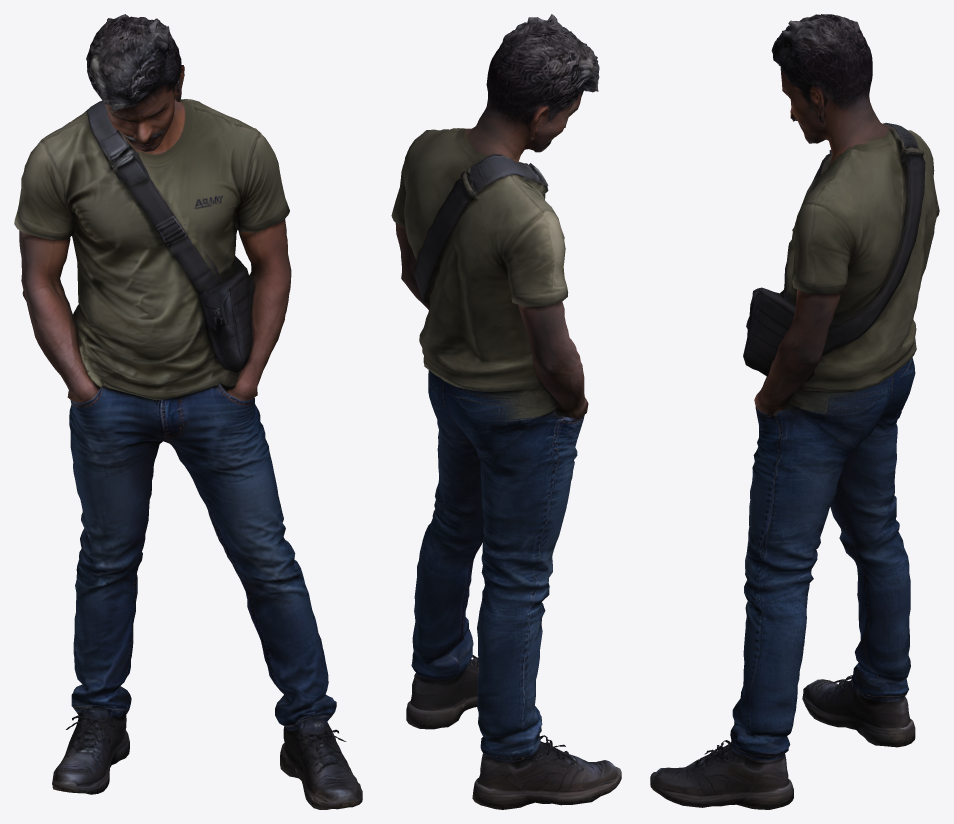
File: about_casual.glb
3 renders of one model, left to right at view 1: azimuth 30°, elevation 25°; view 2: azimuth 150°, elevation 25°; view 3: azimuth 270°, elevation 25°, orthographic. The views are drawn at different scales.
Parts seen in each view (by area): view 1: tripo_node_c5273c39; view 2: tripo_node_c5273c39; view 3: tripo_node_c5273c39.
Boxes of the visible parts, bbox=[...] form: tripo_node_c5273c39: bbox=[14, 14, 362, 809]; tripo_node_c5273c39: bbox=[391, 14, 621, 809]; tripo_node_c5273c39: bbox=[650, 14, 939, 809].
Size of the model in its own units: 0.4024 by 1.22 by 0.4437.
Materials: 1 (1 with a texture image).
